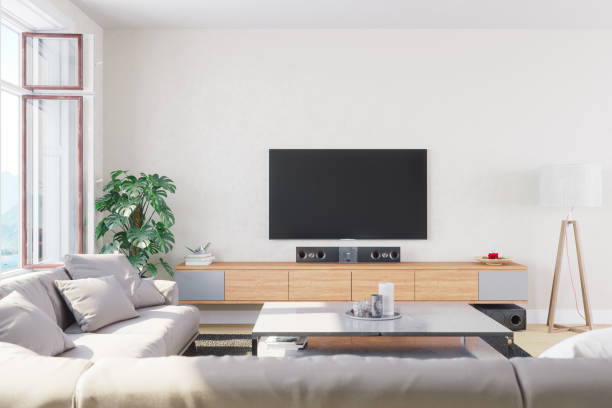TV: (266, 145, 428, 242)
TV stand: (175, 258, 528, 305)
floor lamp: (533, 163, 604, 334)
large plant: (92, 168, 173, 279)
sofa: (0, 252, 205, 408)
table: (248, 297, 515, 358)
